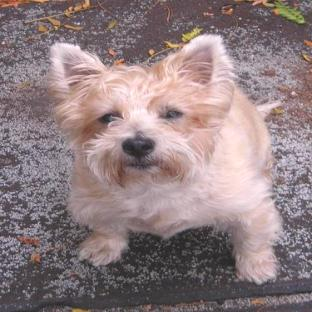Animal: (49, 35, 280, 284)
